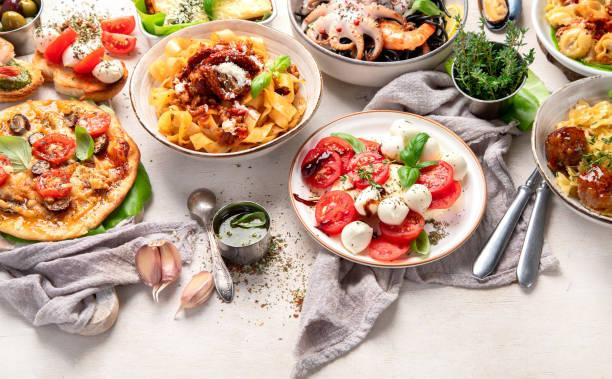Braised Crucian Carp: (286, 109, 480, 273), (129, 22, 322, 186), (1, 98, 141, 241)
